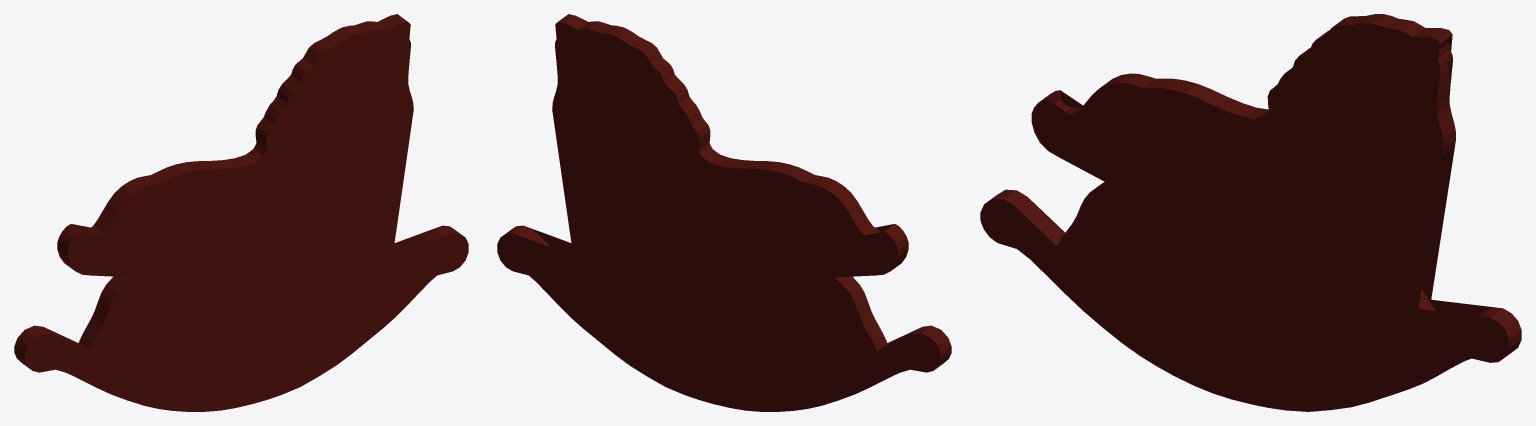
File: symbol7.fbx
The picture shows the model from 3 angles, left to right: view 1: azimuth 30°, elevation 25°; view 2: azimuth 150°, elevation 25°; view 3: azimuth 330°, elevation 25°; orthographic projection. The views are drawn at different scales.
Visible parts, largest first — view 1: Plane.004; view 2: Plane.004; view 3: Plane.004.
Part boxes in pixels (box(x1,y1,x2,y2)): Plane.004: box(14, 14, 468, 411); Plane.004: box(497, 14, 951, 411); Plane.004: box(980, 14, 1521, 411).
Size of the model in its own units: 21.99 by 16.32 by 0.9152.
